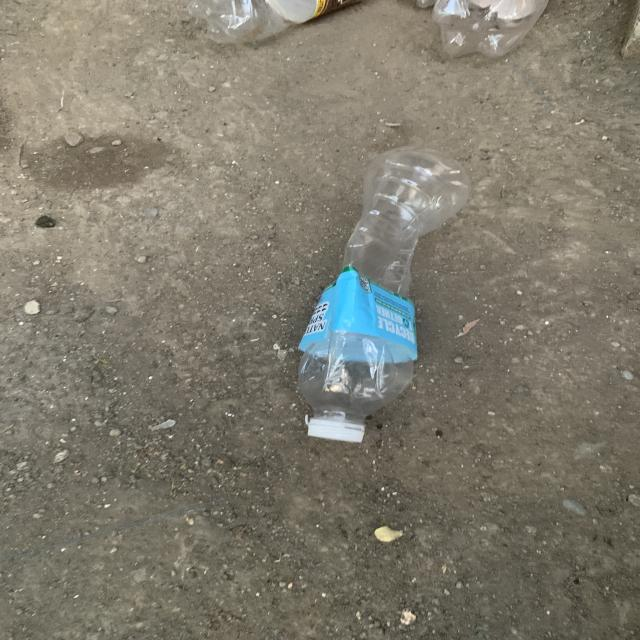Bottle: (298, 147, 469, 442)
